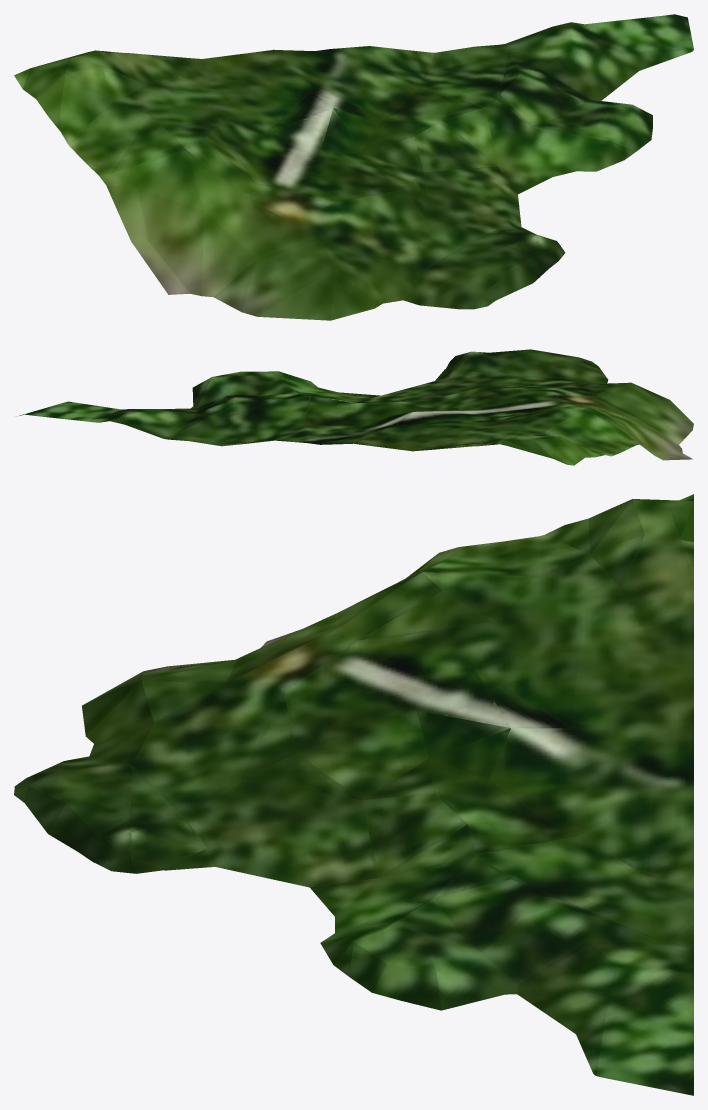
3 views of the same model, one above another, from view 1: azimuth 30°, elevation 25°; view 2: azimuth 150°, elevation 25°; view 3: azimuth 270°, elevation 25° (orthographic). The views are drawn at different scales.
Size of the model in its own units: 1.46 by 0.2447 by 0.923.
1 material, 1 textured.
